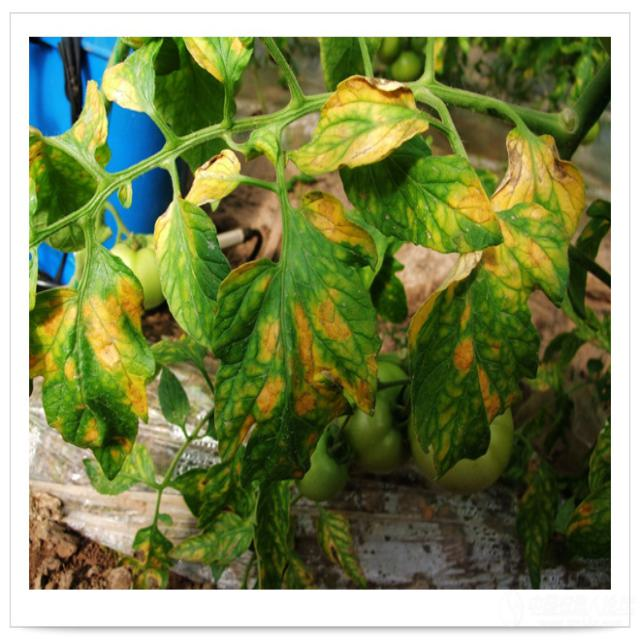Leaf_Mold: (405, 205, 570, 480), (215, 253, 378, 483), (35, 243, 154, 480), (287, 73, 430, 175), (497, 120, 586, 233), (292, 190, 374, 262), (425, 174, 500, 252), (154, 203, 199, 316), (315, 509, 368, 585), (181, 147, 243, 210), (66, 77, 107, 154), (127, 527, 177, 590), (180, 38, 247, 83), (103, 52, 143, 113), (567, 500, 597, 538), (171, 531, 204, 564)
